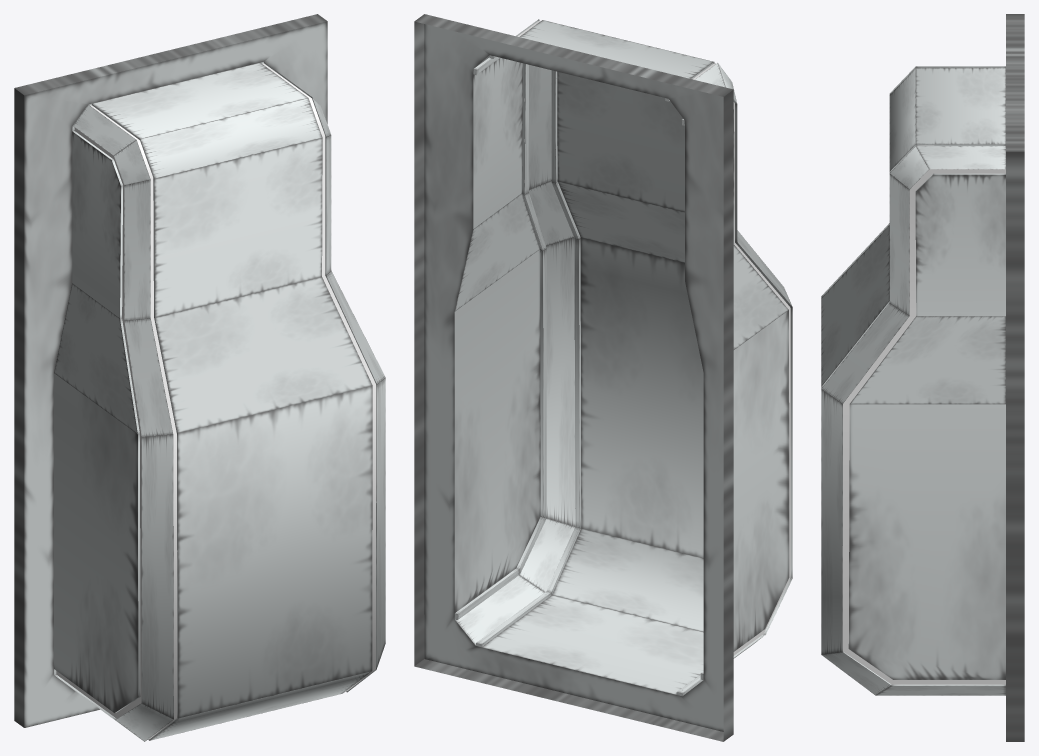
Rendered from wall2.fbx.
The picture shows the model from 3 angles, left to right: view 1: azimuth 30°, elevation 25°; view 2: azimuth 150°, elevation 25°; view 3: azimuth 270°, elevation 25°; orthographic projection. The views are drawn at different scales.
Visible parts, largest first — view 1: wall2; view 2: wall2; view 3: wall2.
Boxes of the visible parts, x1,y1,x2,y2 form: wall2: (14, 14, 385, 741); wall2: (414, 14, 792, 741); wall2: (821, 14, 1024, 741).
Bounding box in the file's own units: 84.52 × 168 × 52.66.
